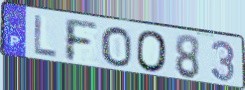3: (209, 39, 236, 84)
8: (173, 33, 201, 81)
F: (62, 16, 99, 64)
L: (32, 13, 59, 60)
O: (135, 29, 169, 74), (100, 25, 134, 69)
